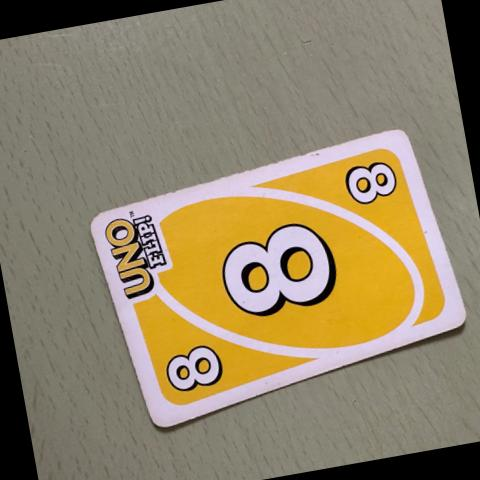lyellow-8: (144, 317, 237, 411)
